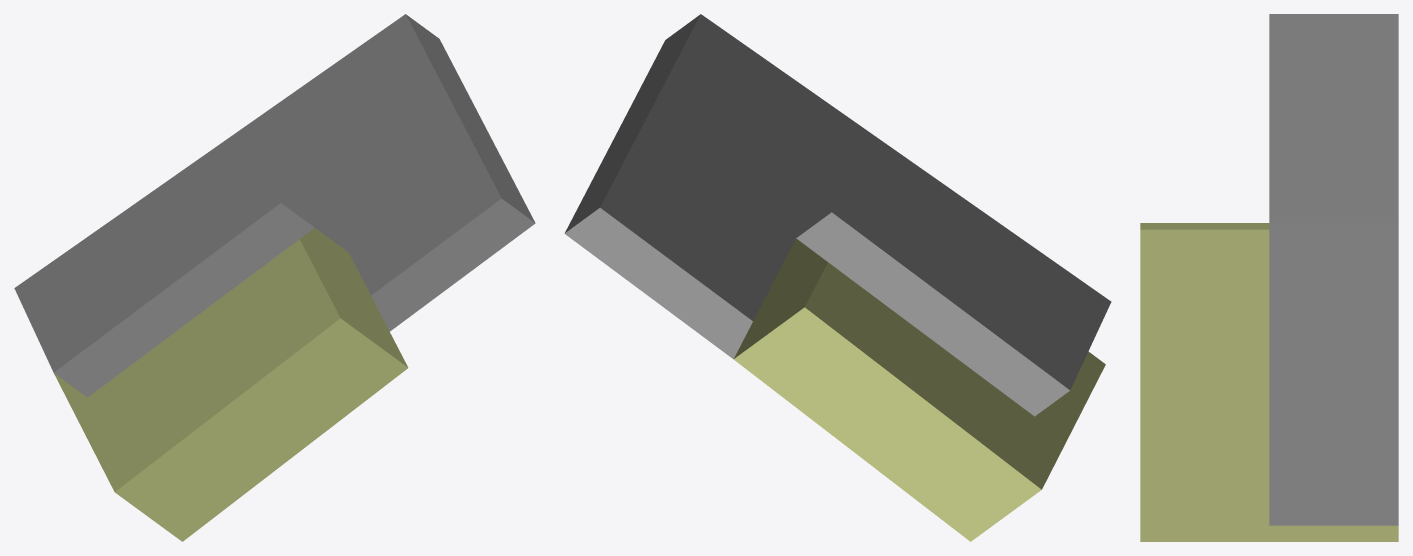
3 renders of one model, left to right at view 1: azimuth 30°, elevation 25°; view 2: azimuth 150°, elevation 25°; view 3: azimuth 270°, elevation 25°, orthographic. The views are drawn at different scales.
Parts seen in each view (by area): view 1: 0_1_0_2_1_3_2_2_2_3; view 2: 0_1_0_2_1_3_2_2_2_3; view 3: 0_1_0_2_1_3_2_2_2_3.
Boxes of the visible parts, <box> form: 0_1_0_2_1_3_2_2_2_3: <box>14,14,535,541</box>; 0_1_0_2_1_3_2_2_2_3: <box>564,14,1111,541</box>; 0_1_0_2_1_3_2_2_2_3: <box>1140,14,1398,541</box>.
Size of the model in its own units: 24.87 by 19.86 by 6.
